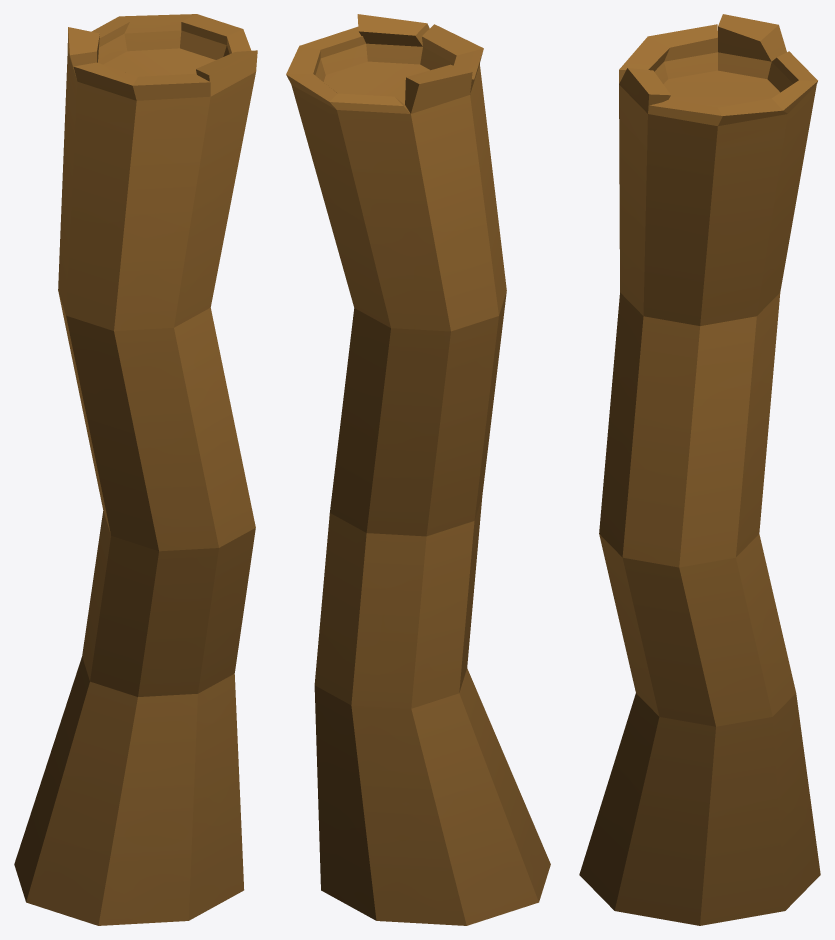
The model's file is Fence_Pole001.fbx.
3 views of the same model, side by side, from view 1: azimuth 30°, elevation 25°; view 2: azimuth 150°, elevation 25°; view 3: azimuth 270°, elevation 25° (orthographic).
Parts seen in each view (by area): view 1: Cylinder.009; view 2: Cylinder.009; view 3: Cylinder.009.
Boxes of the visible parts, x1,y1,x2,y2 form: Cylinder.009: (14, 14, 257, 925); Cylinder.009: (286, 14, 550, 925); Cylinder.009: (579, 14, 820, 925).
Size of the model in its own units: 62.83 by 217 by 56.55.
